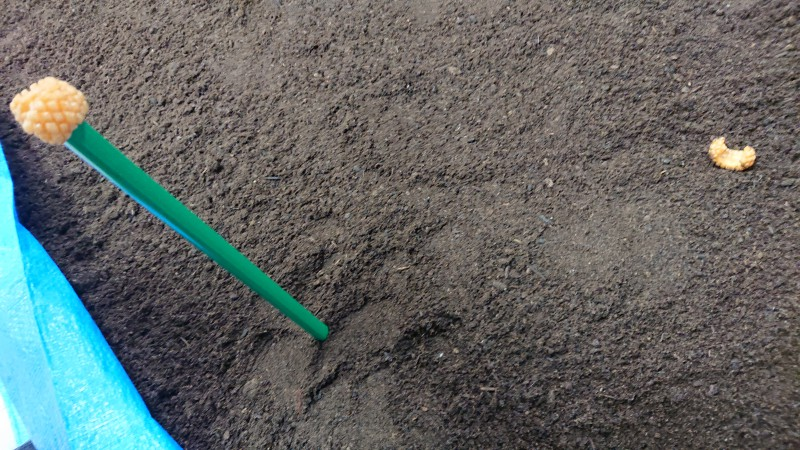eggs: (7, 69, 92, 148), (705, 126, 758, 175)
